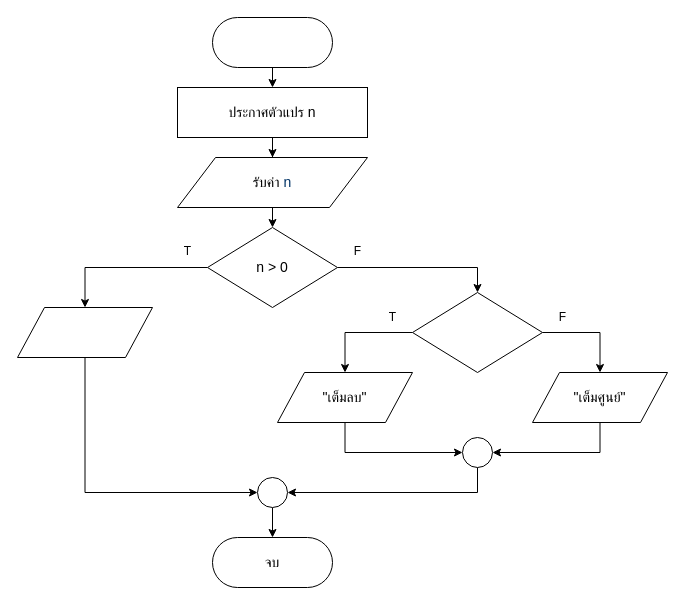
The diagram is 685 pixels wide and 605 high, and some of its shapes have lost their labels. Each missing label, with the centre of its shape:
"เต็มบวก": pixel 84 332
n < 0: pixel 477 332
เริ่มต้น: pixel 272 42
